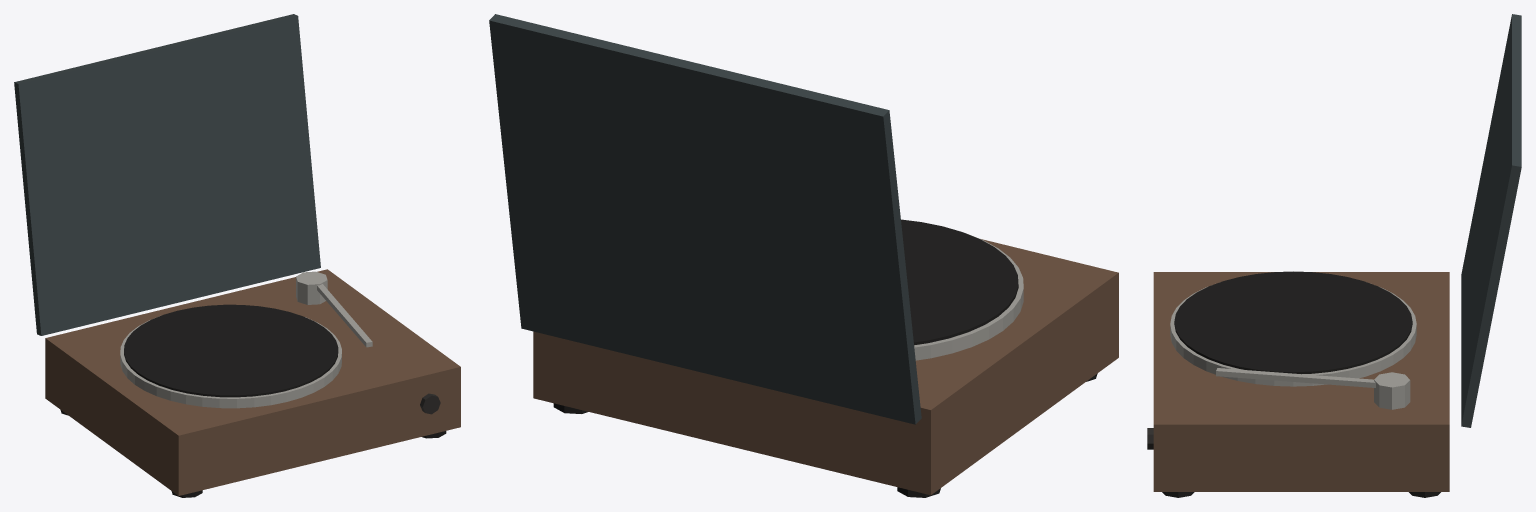
File: turntable-belt.glb
The picture shows the model from 3 angles, left to right: view 1: azimuth 30°, elevation 25°; view 2: azimuth 150°, elevation 25°; view 3: azimuth 270°, elevation 25°; orthographic projection. The views are drawn at different scales.
Visible parts, largest first — view 1: glass, wood, rubber, brushed; view 2: glass, wood, rubber, brushed; view 3: wood, rubber, glass, brushed.
Boxes of the visible parts, left/top/right/bottom form: glass: left=14, top=14, right=320, bottom=335; wood: left=45, top=269, right=460, bottom=495; rubber: left=60, top=304, right=446, bottom=497; brushed: left=120, top=271, right=372, bottom=408; glass: left=489, top=14, right=921, bottom=424; wood: left=533, top=239, right=1118, bottom=495; rubber: left=553, top=219, right=1097, bottom=497; brushed: left=914, top=233, right=1023, bottom=360; wood: left=1153, top=272, right=1449, bottom=491; rubber: left=1162, top=271, right=1440, bottom=497; glass: left=1461, top=14, right=1521, bottom=427; brushed: left=1170, top=286, right=1416, bottom=409.
Size of the model in its own units: 0.44 by 0.4493 by 0.4558.
